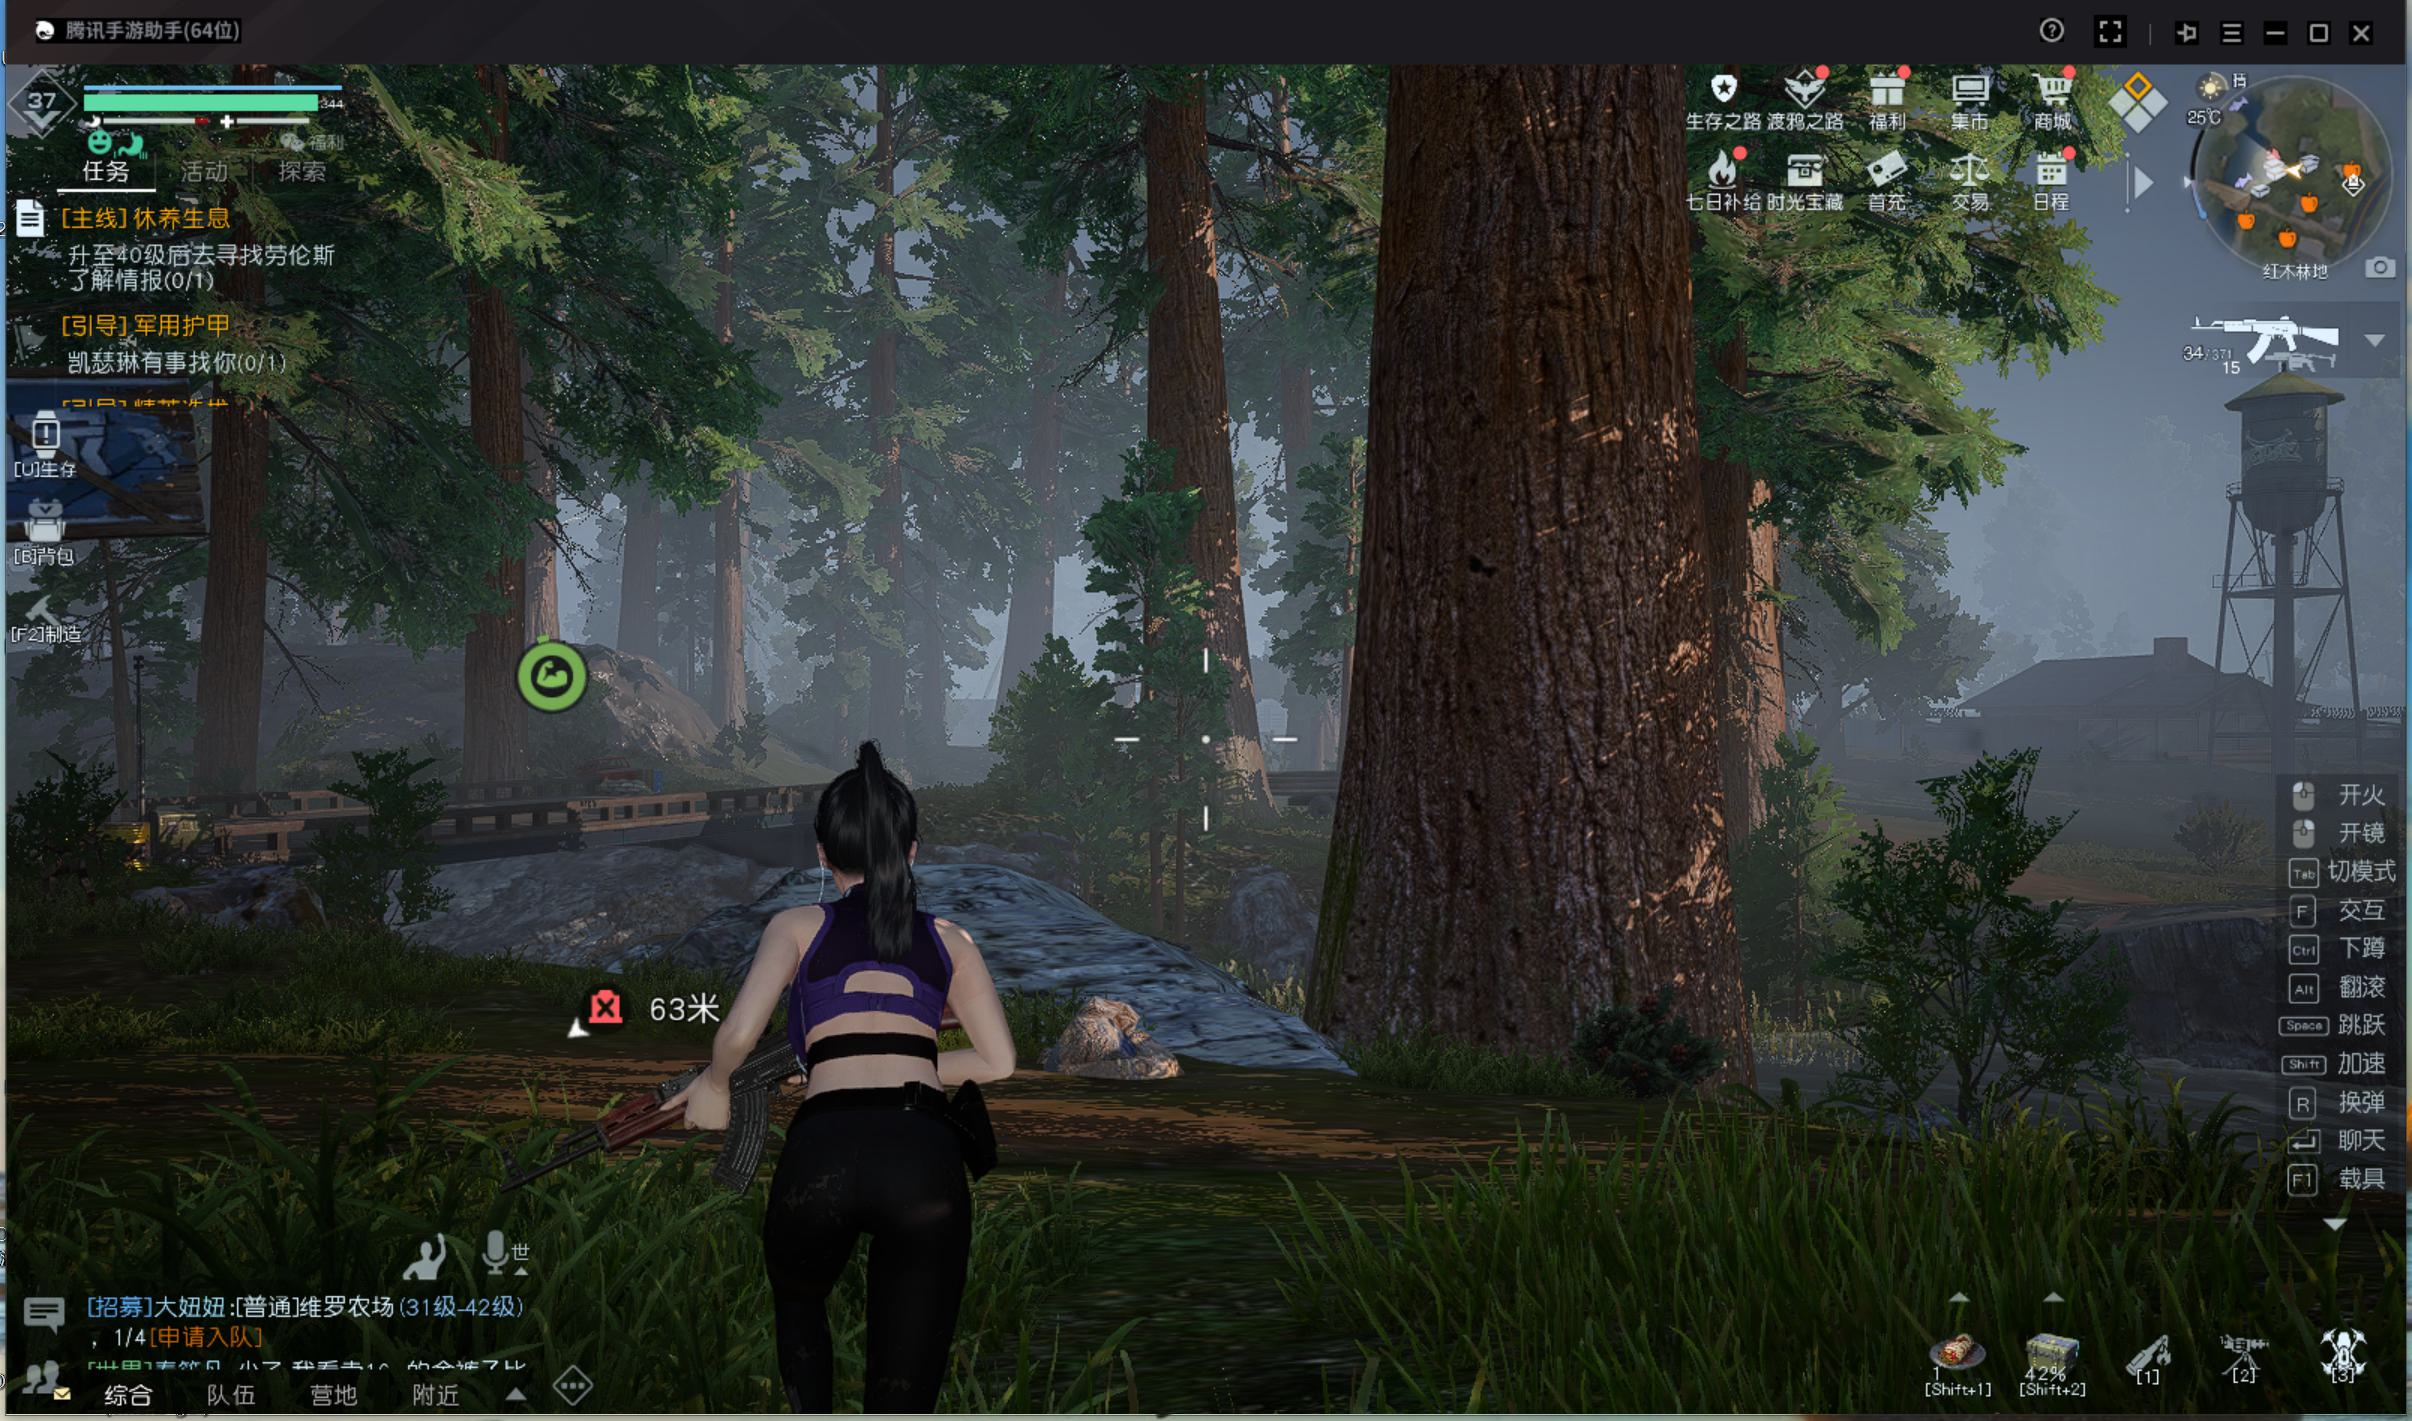stone: (1055, 969, 1177, 1100)
tree: (1333, 200, 1801, 1078), (1116, 276, 1265, 859), (440, 350, 523, 798), (201, 413, 271, 824), (851, 381, 924, 756), (699, 453, 759, 760)
